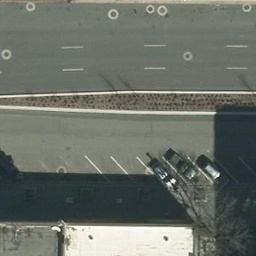car: (169, 151, 203, 185), (201, 155, 228, 190), (154, 158, 173, 195)
